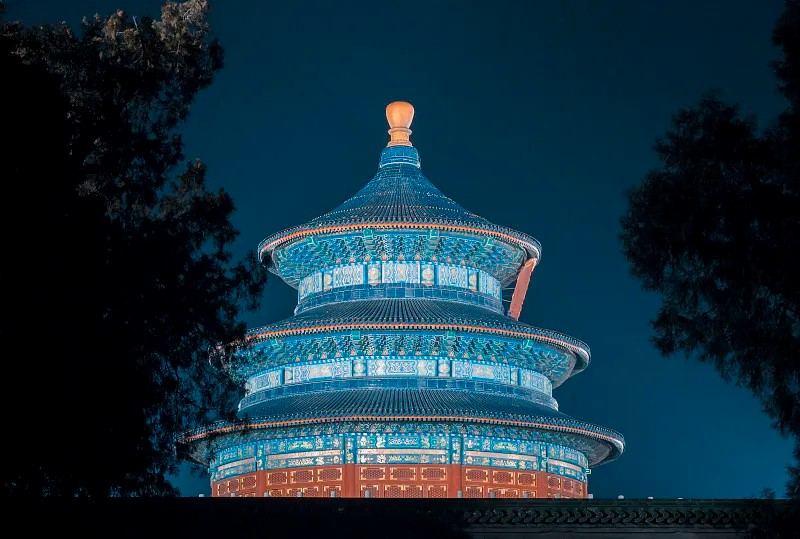Heaven: (172, 101, 626, 493)
